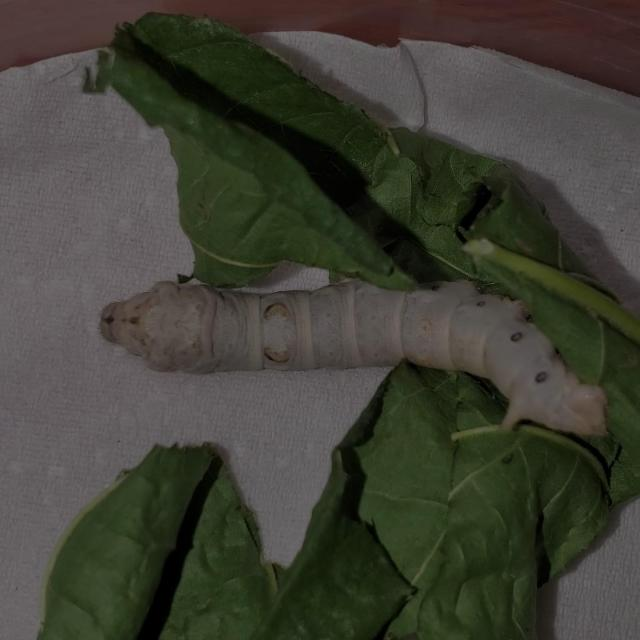Healthy: (95, 266, 612, 450)
